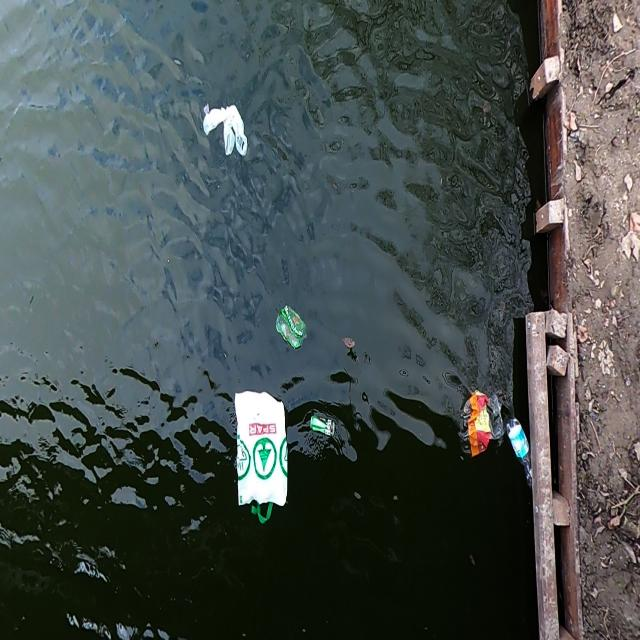Bouteille plastique: (506, 416, 534, 491)
Non plastique: (308, 409, 339, 441)
Sac plastique: (228, 386, 294, 530), (455, 385, 507, 464), (196, 98, 252, 167), (275, 299, 309, 355)
